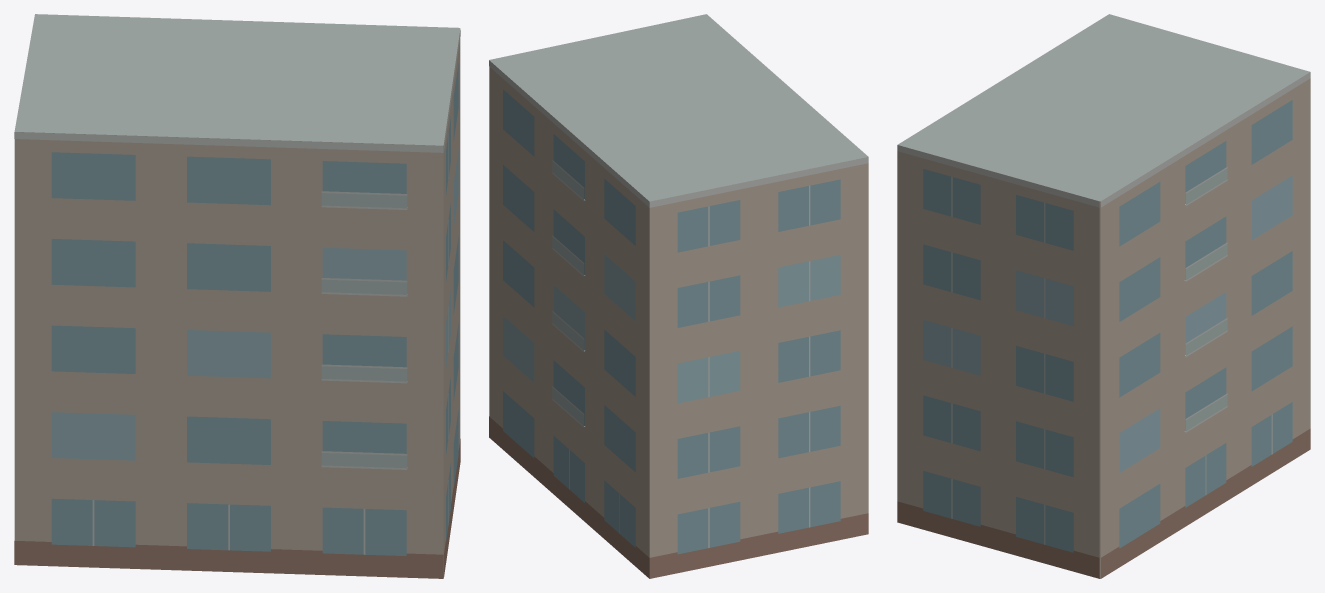
File: survey-upis-32605923.glb
3 renders of one model, left to right at view 1: azimuth 30°, elevation 25°; view 2: azimuth 150°, elevation 25°; view 3: azimuth 270°, elevation 25°, orthographic. The views are drawn at different scales.
Parts seen in each view (by area): view 1: survey-upis-32605923.tmp; view 2: survey-upis-32605923.tmp; view 3: survey-upis-32605923.tmp.
Part boxes in pixels (x1=…): survey-upis-32605923.tmp: x1=14, y1=14, x2=460, y2=578; survey-upis-32605923.tmp: x1=489, y1=14, x2=868, y2=578; survey-upis-32605923.tmp: x1=897, y1=14, x2=1310, y2=578.
Size of the model in its own units: 15.66 by 14.7 by 14.59.
